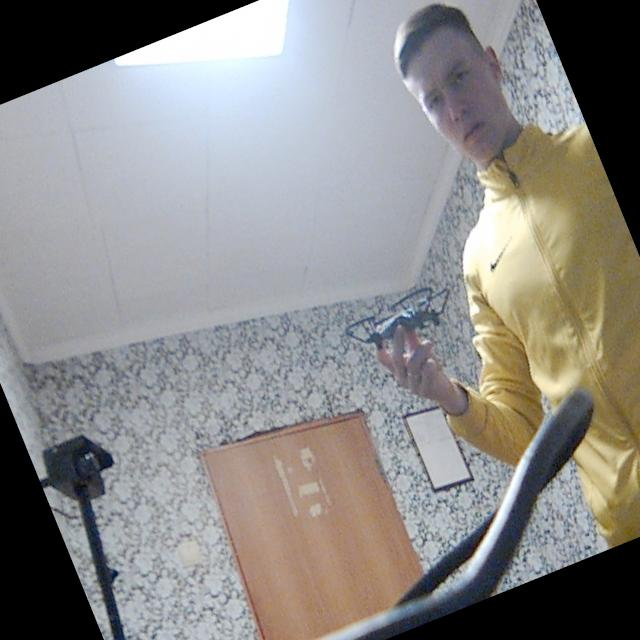drone: (330, 255, 474, 369)
